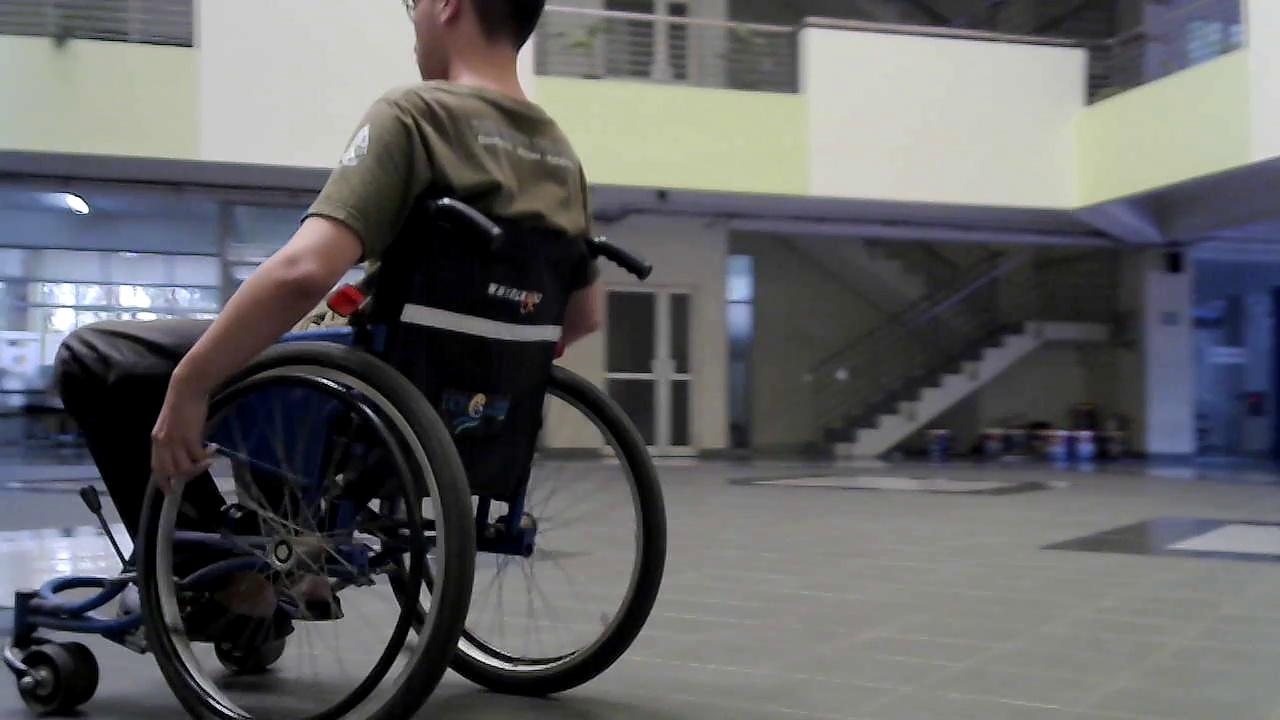person: (145, 2, 648, 554)
wheelchair: (12, 195, 693, 720)
